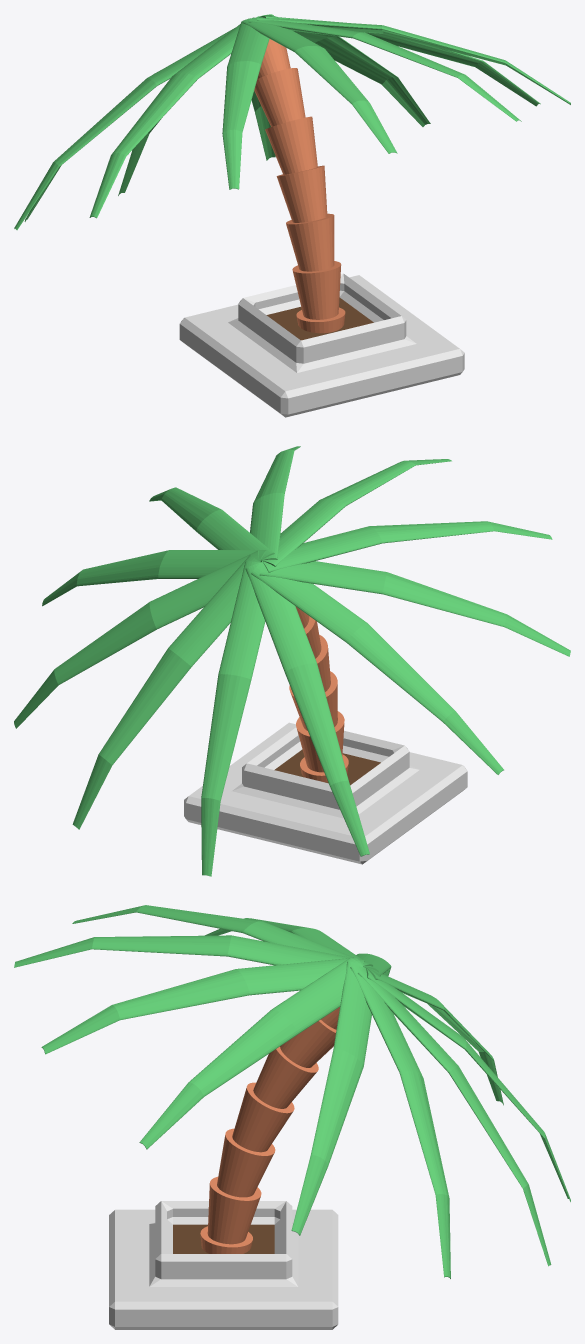
Rendered from PalmTree.fbx.
3 renders of one model, top to bottom at view 1: azimuth 30°, elevation 25°; view 2: azimuth 150°, elevation 25°; view 3: azimuth 270°, elevation 25°, orthographic. The views are drawn at different scales.
Visible parts, largest first — view 1: ground, leafs, palm_tree; view 2: leafs, ground, palm_tree; view 3: leafs, ground, palm_tree.
Part boxes in pixels (left/top/right/bottom): ground: left=179, top=273, right=464, bottom=417; leafs: left=14, top=14, right=570, bottom=230; palm_tree: left=254, top=39, right=345, bottom=333; leafs: left=14, top=446, right=570, bottom=876; ground: left=184, top=722, right=467, bottom=864; palm_tree: left=289, top=606, right=348, bottom=782; leafs: left=14, top=905, right=570, bottom=1278; ground: left=109, top=1201, right=338, bottom=1329; palm_tree: left=200, top=1007, right=339, bottom=1253.
Size of the model in its own units: 6.84 by 6.21 by 4.16.
